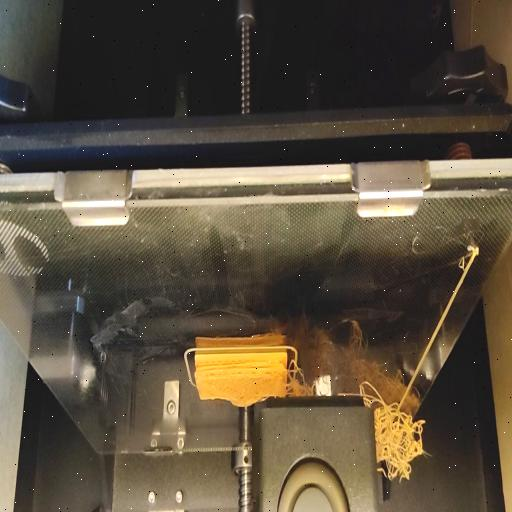spaghetti: (377, 395, 423, 483), (287, 357, 309, 403), (364, 380, 376, 410)
